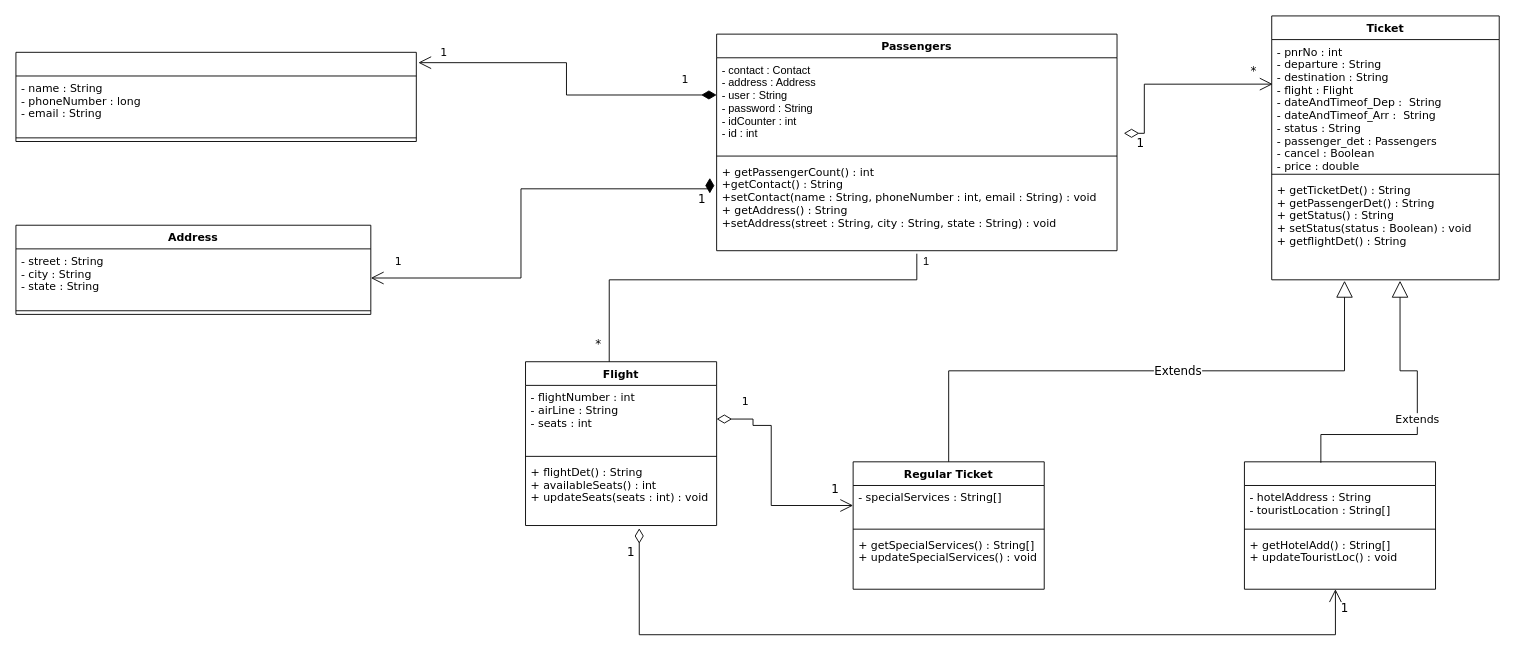
This 1515x666 diagram has some shape labels left out. The shapes that lost their labels are listed below. From the top down, each one's box as (x1, y1, x2, y2) in pixels, then its label:
(15, 51, 416, 142): Contact
(1244, 461, 1436, 589): Tourist Ticket
